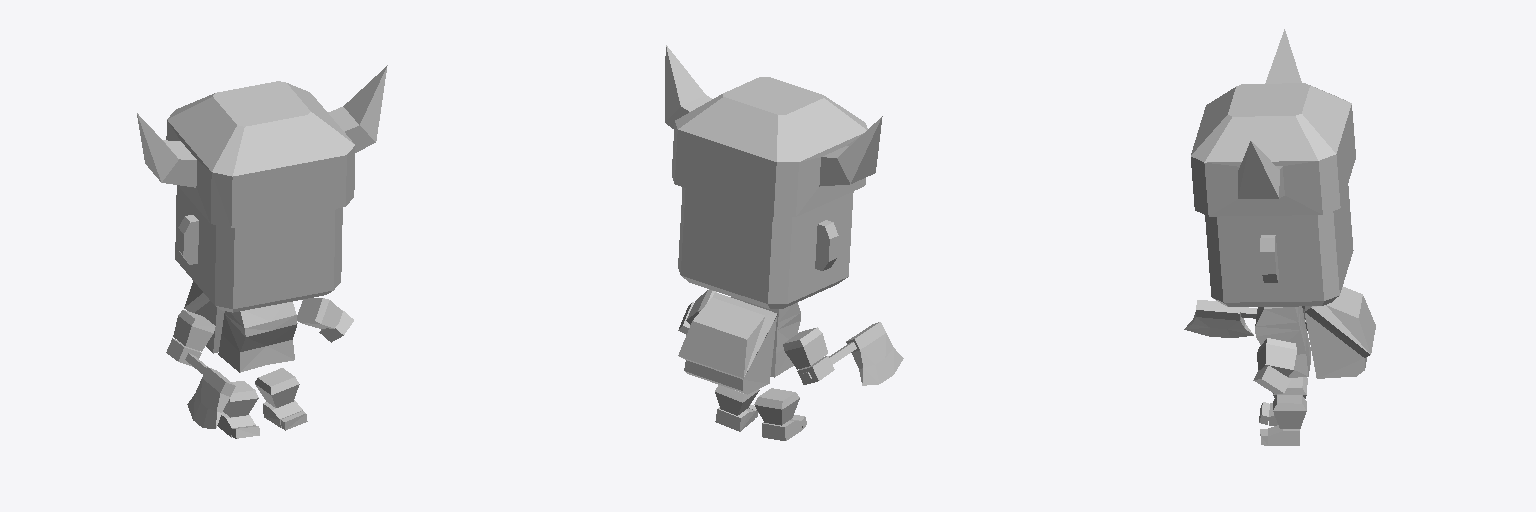
Rendered from mini_knight_fem_000010.obj.
3 views of the same model, side by side, from view 1: azimuth 30°, elevation 25°; view 2: azimuth 150°, elevation 25°; view 3: azimuth 270°, elevation 25° (orthographic).
Parts seen in each view (by area): view 1: cap_Object01, Mesh_objheadusOBJexport, axe_Object02, back_Object03; view 2: cap_Object01, Mesh_objheadusOBJexport, back_Object03, axe_Object02; view 3: cap_Object01, Mesh_objheadusOBJexport, back_Object03, axe_Object02.
Part boxes in pixels (left/top/right/bottom): cap_Object01: left=137, top=65, right=387, bottom=227; Mesh_objheadusOBJexport: left=166, top=185, right=353, bottom=438; axe_Object02: left=185, top=353, right=235, bottom=428; back_Object03: left=184, top=281, right=224, bottom=353; cap_Object01: left=665, top=45, right=882, bottom=216; Mesh_objheadusOBJexport: left=678, top=187, right=853, bottom=440; back_Object03: left=678, top=292, right=777, bottom=394; axe_Object02: left=803, top=322, right=903, bottom=385; cap_Object01: left=1191, top=29, right=1355, bottom=216; Mesh_objheadusOBJexport: left=1205, top=186, right=1353, bottom=445; back_Object03: left=1304, top=287, right=1375, bottom=378; axe_Object02: left=1184, top=300, right=1257, bottom=337.
Bounding box in the file's own units: 1.83 × 2.58 × 1.3.